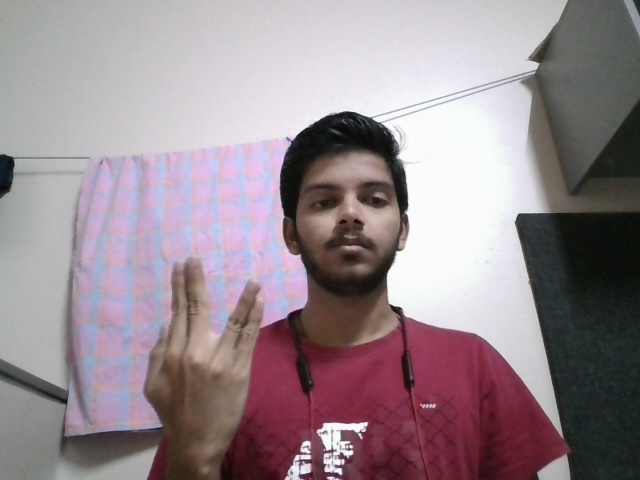Live Long: (141, 256, 269, 452)
